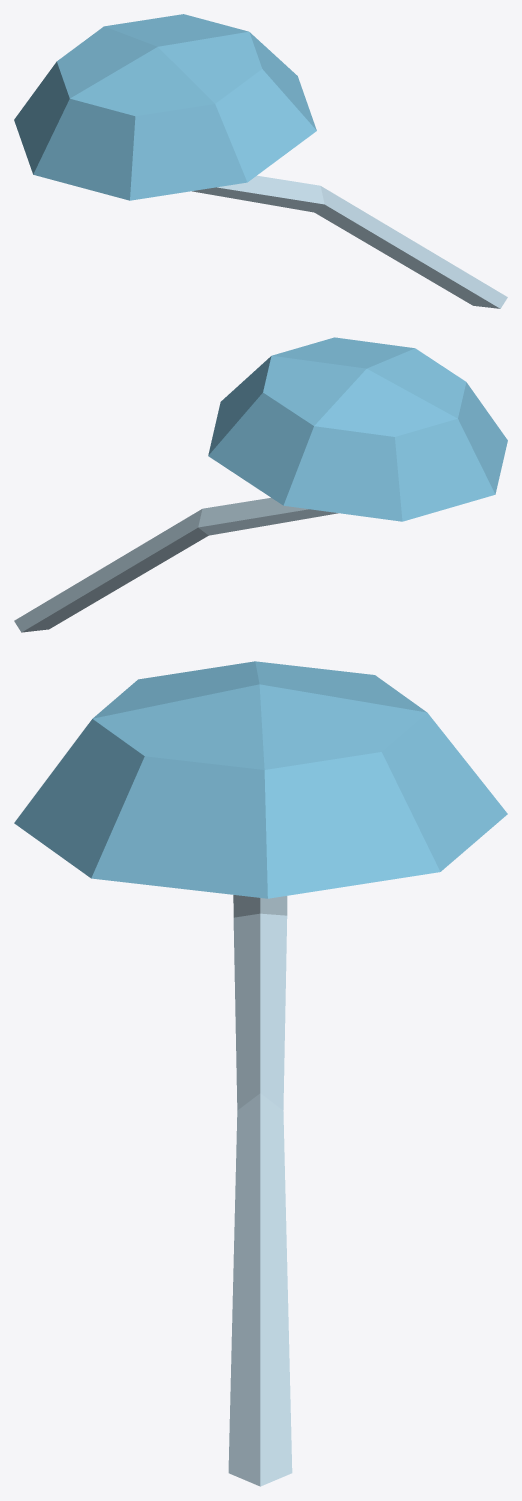
The model's file is Mushroom_a_02.fbx.
3 views of the same model, one above another, from view 1: azimuth 30°, elevation 25°; view 2: azimuth 150°, elevation 25°; view 3: azimuth 270°, elevation 25° (orthographic). The views are drawn at different scales.
Parts seen in each view (by area): view 1: Mushroom_a_02; view 2: Mushroom_a_02; view 3: Mushroom_a_02.
Boxes of the visible parts, x1,y1,x2,y2 form: Mushroom_a_02: (14,14,507,308); Mushroom_a_02: (14,337,507,632); Mushroom_a_02: (14,661,507,1486).
Bounding box in the file's own units: 0.3947 × 0.2659 × 0.2239.
